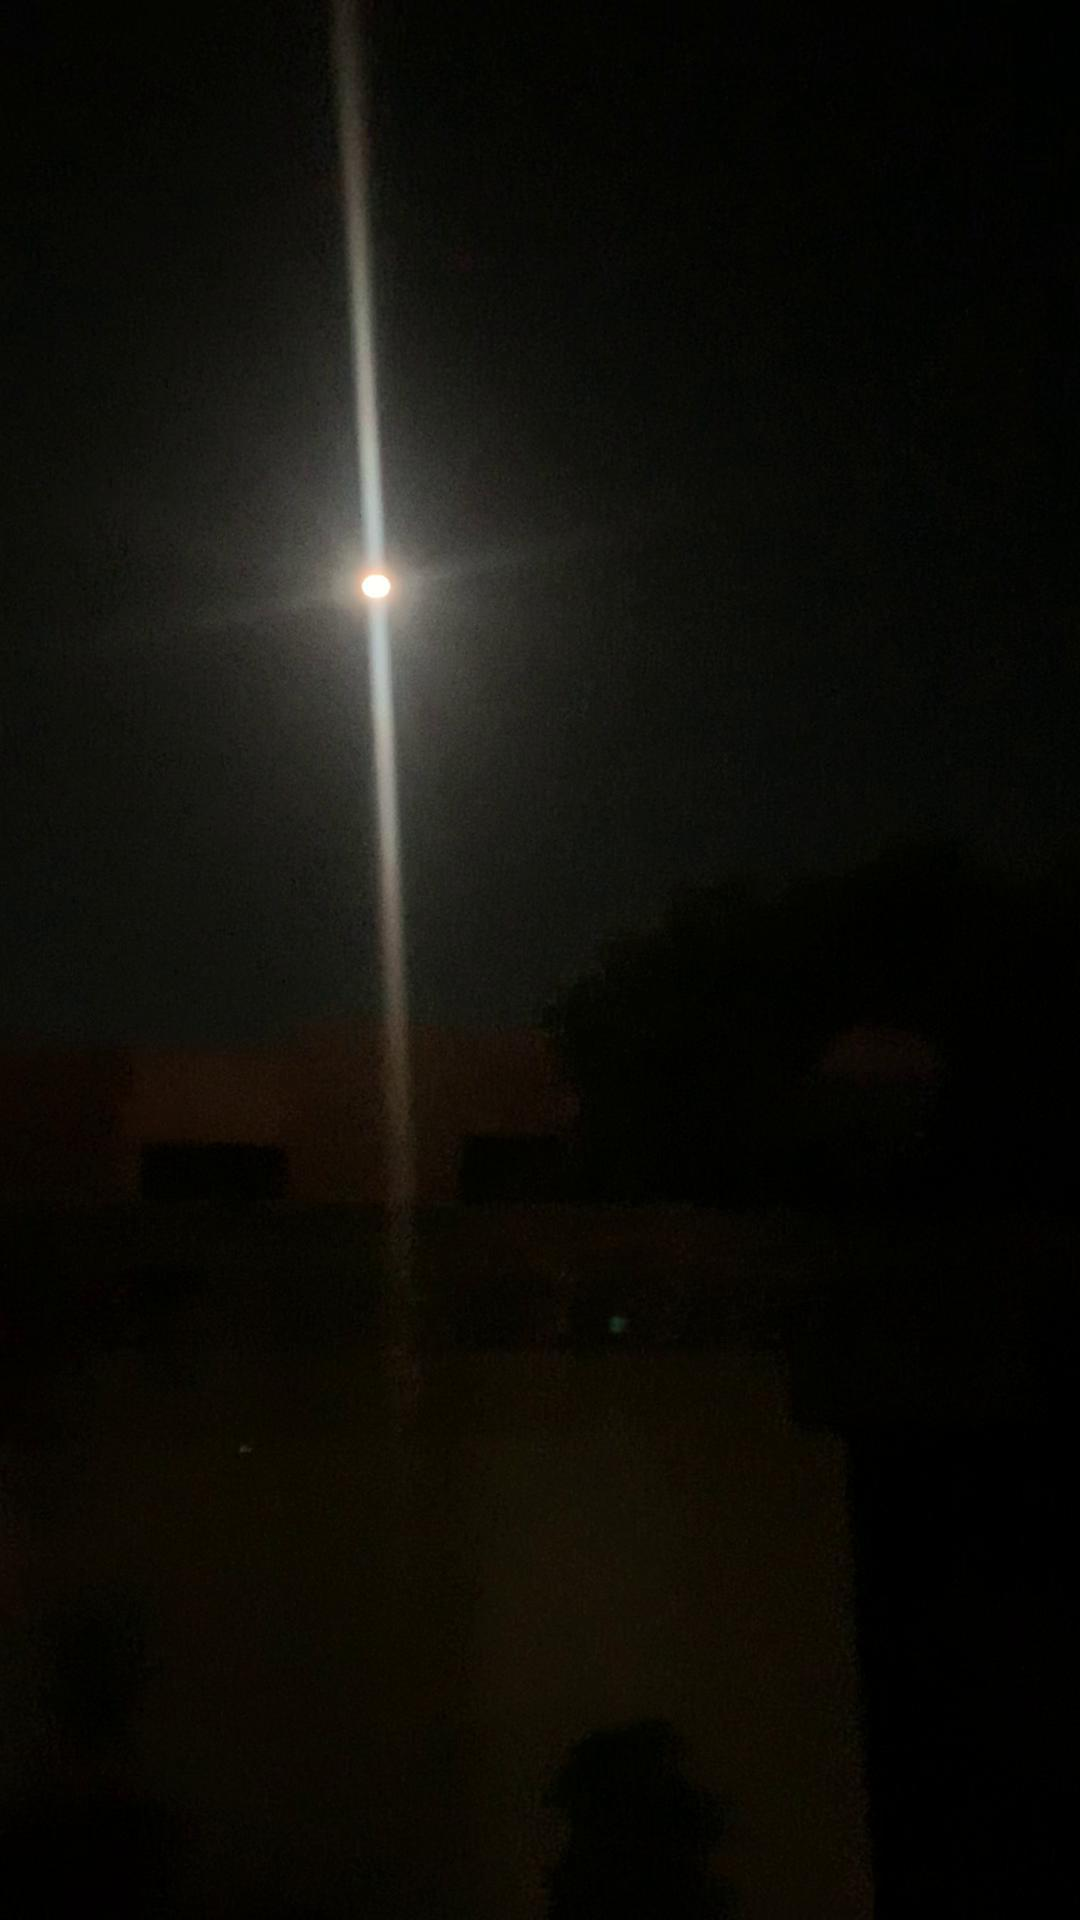moon: (360, 545, 434, 624)
